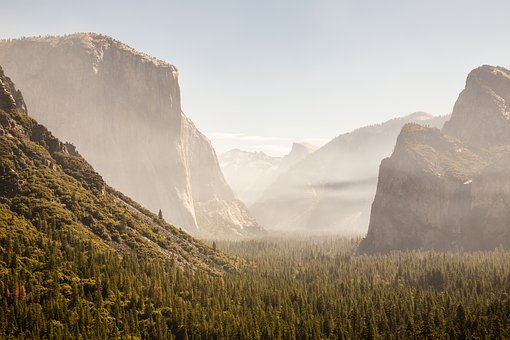field: (7, 168, 510, 338)
mountain: (15, 33, 239, 236), (285, 55, 509, 258)
sky: (183, 14, 510, 143)
